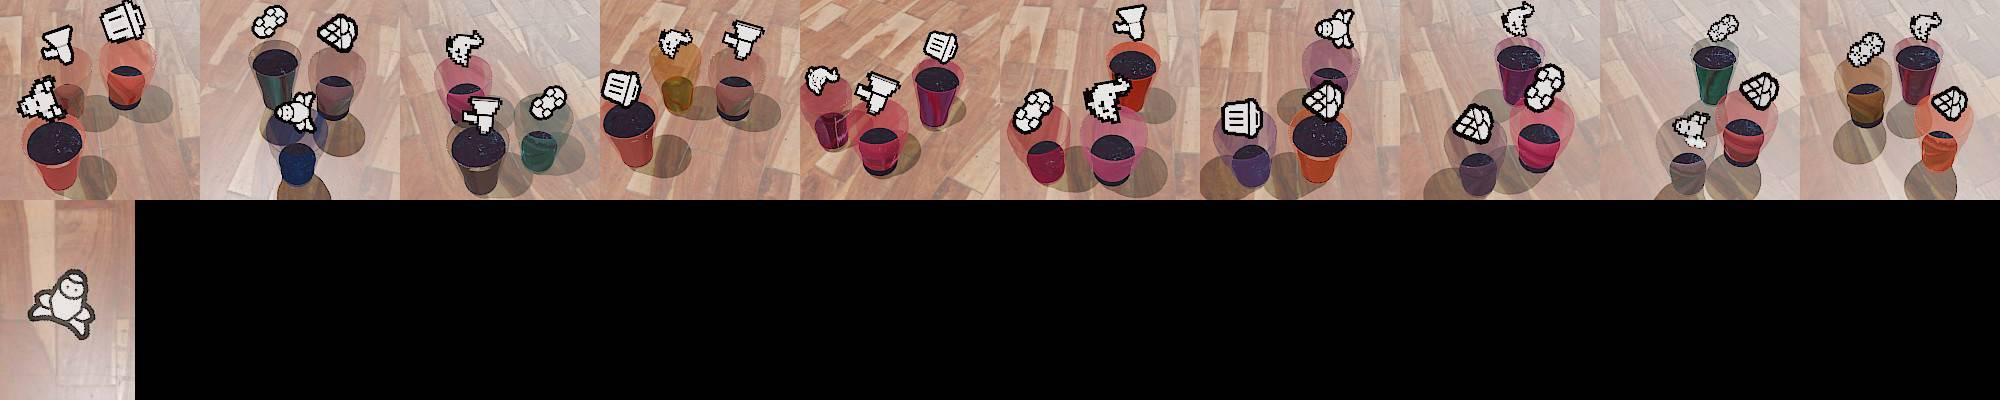icon: (28, 268, 97, 340), (15, 75, 66, 122), (1082, 76, 1133, 122), (853, 70, 904, 116), (1520, 62, 1566, 112), (99, 1, 149, 45), (1219, 97, 1265, 140), (274, 89, 319, 132), (1301, 78, 1346, 121), (722, 18, 765, 61), (1453, 101, 1495, 144), (316, 13, 358, 54), (463, 94, 505, 135), (601, 69, 643, 108), (1314, 8, 1353, 50), (1739, 70, 1781, 110), (1015, 88, 1054, 131), (445, 29, 485, 69), (528, 84, 568, 124), (1847, 31, 1885, 69), (41, 24, 75, 66), (1672, 110, 1710, 145), (251, 4, 288, 39), (1112, 4, 1148, 41), (1500, 1, 1534, 38), (804, 64, 842, 97), (923, 29, 959, 64), (657, 27, 693, 60), (1932, 88, 1967, 118), (1909, 11, 1943, 42), (1707, 13, 1740, 42)
